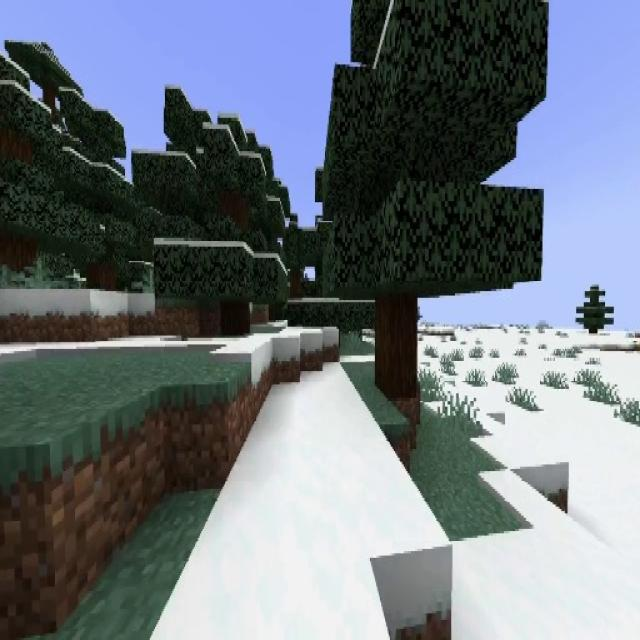spruce: (329, 0, 543, 398), (167, 113, 283, 333), (44, 87, 147, 294), (0, 73, 80, 291), (576, 282, 614, 338)
spruce_log: (375, 296, 418, 401), (0, 236, 37, 287), (221, 300, 250, 336), (89, 261, 115, 288)
